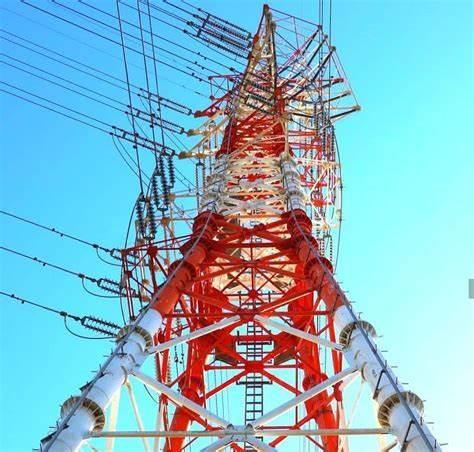power_tower: (44, 11, 435, 452)
